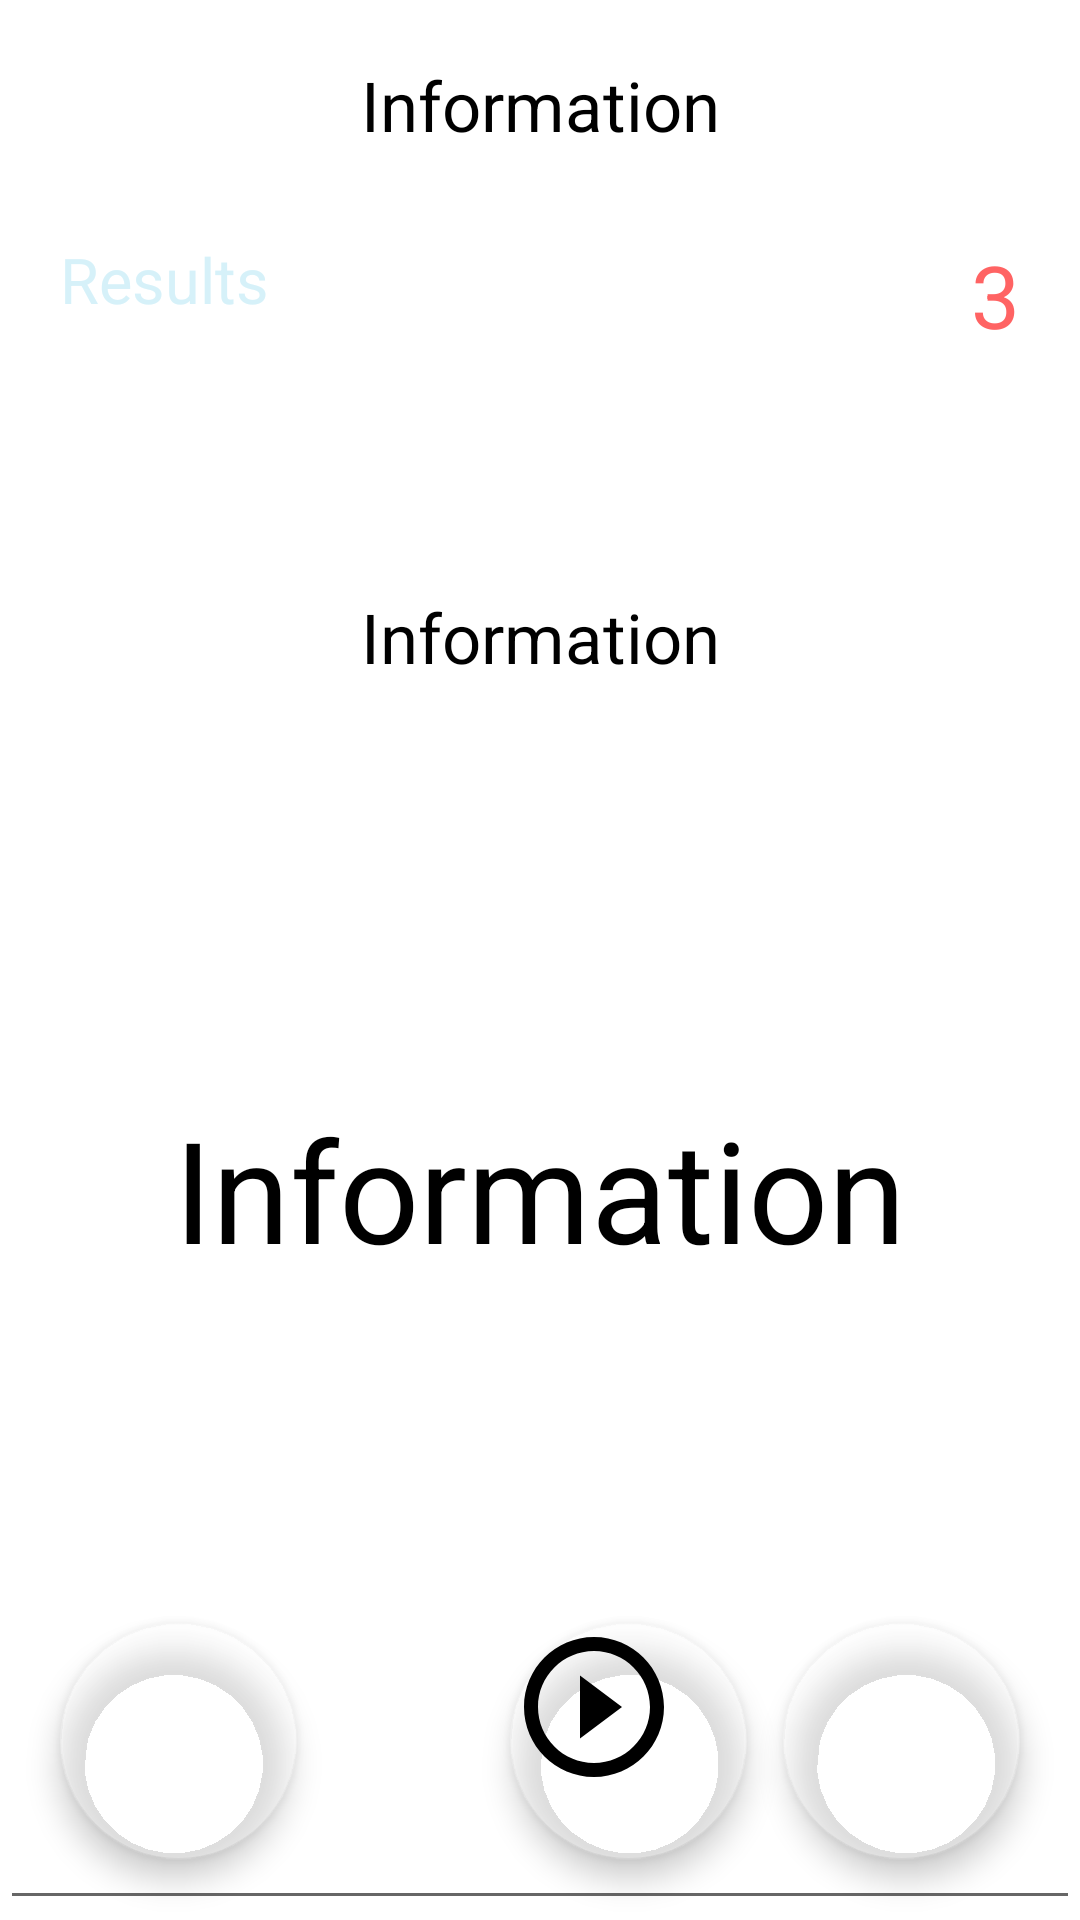

Point at icon controls on the screen. Image size 1080x1920, points as point (x, y).
play: point (629, 1748)
